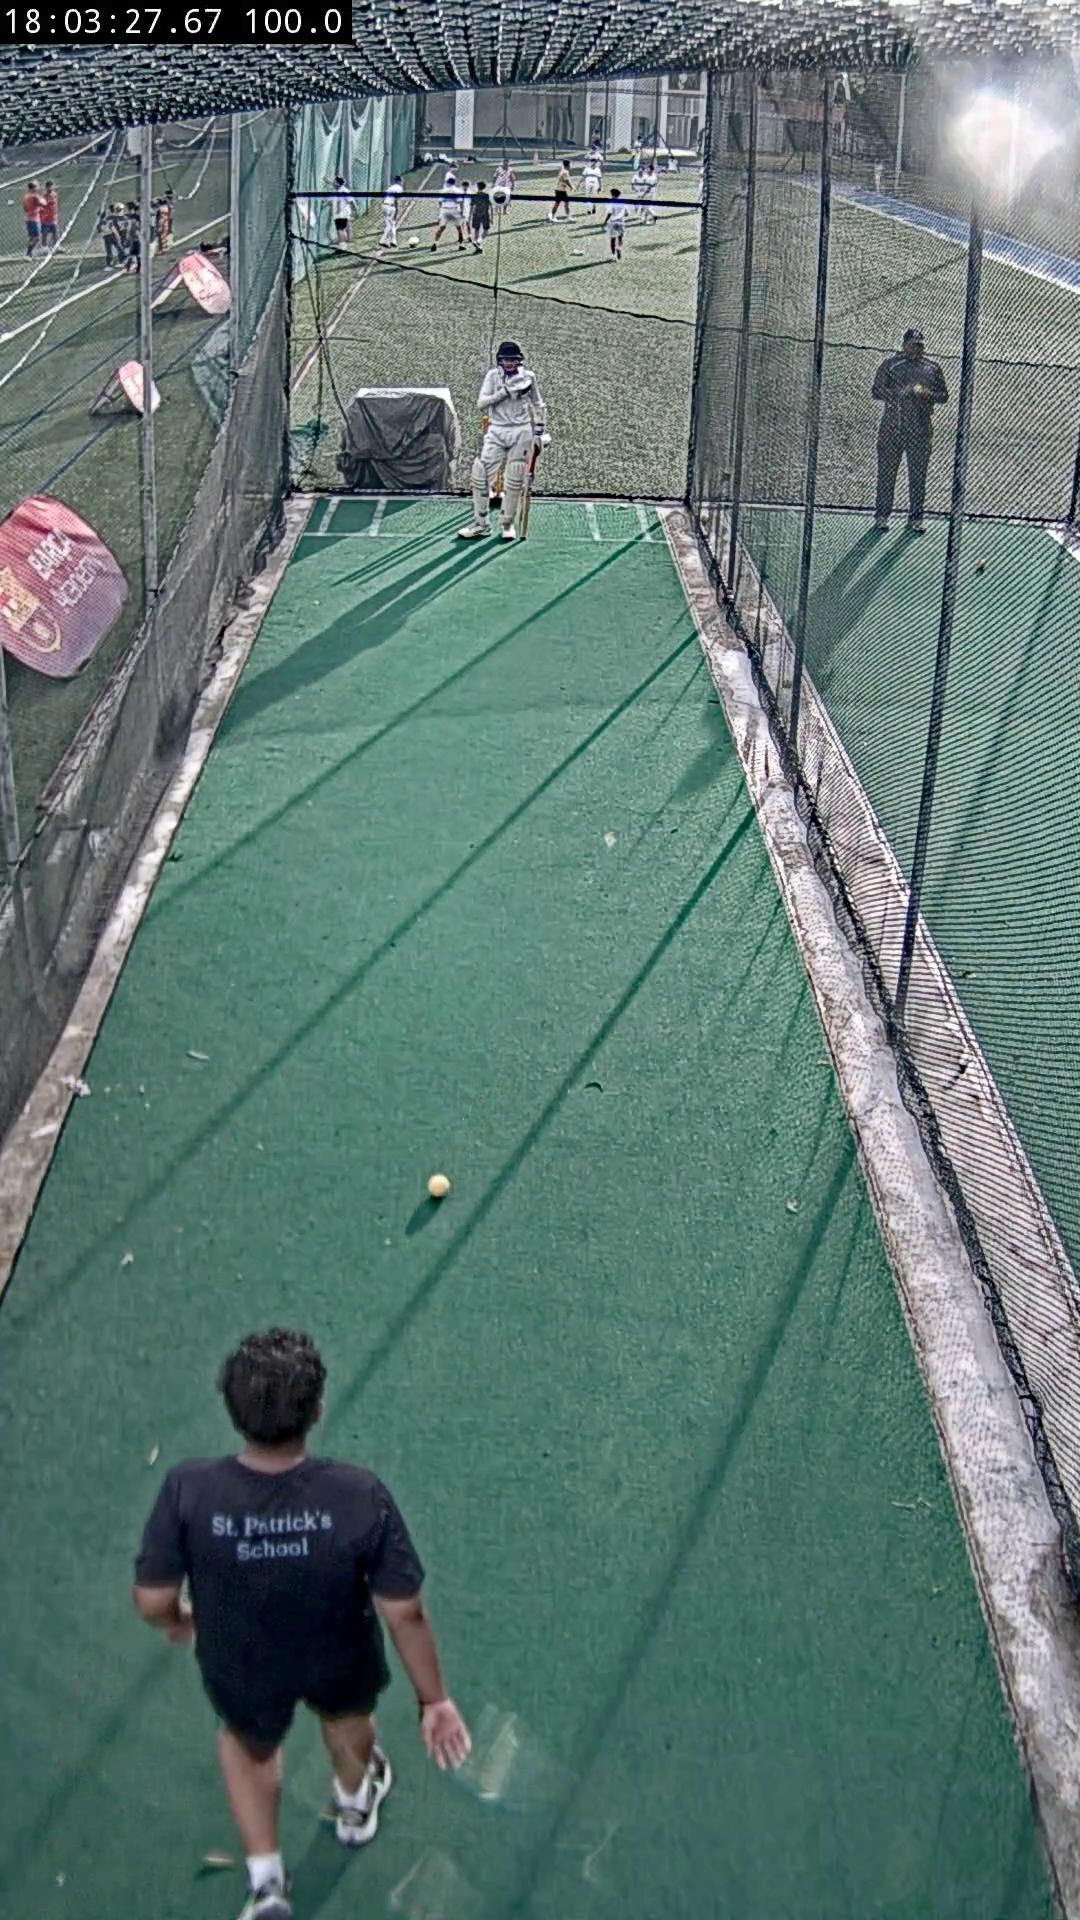ball: (427, 1174, 450, 1200)
bat: (521, 454, 537, 538)
helmet: (495, 342, 525, 364)
pads: (498, 458, 525, 527), (472, 458, 492, 525)
